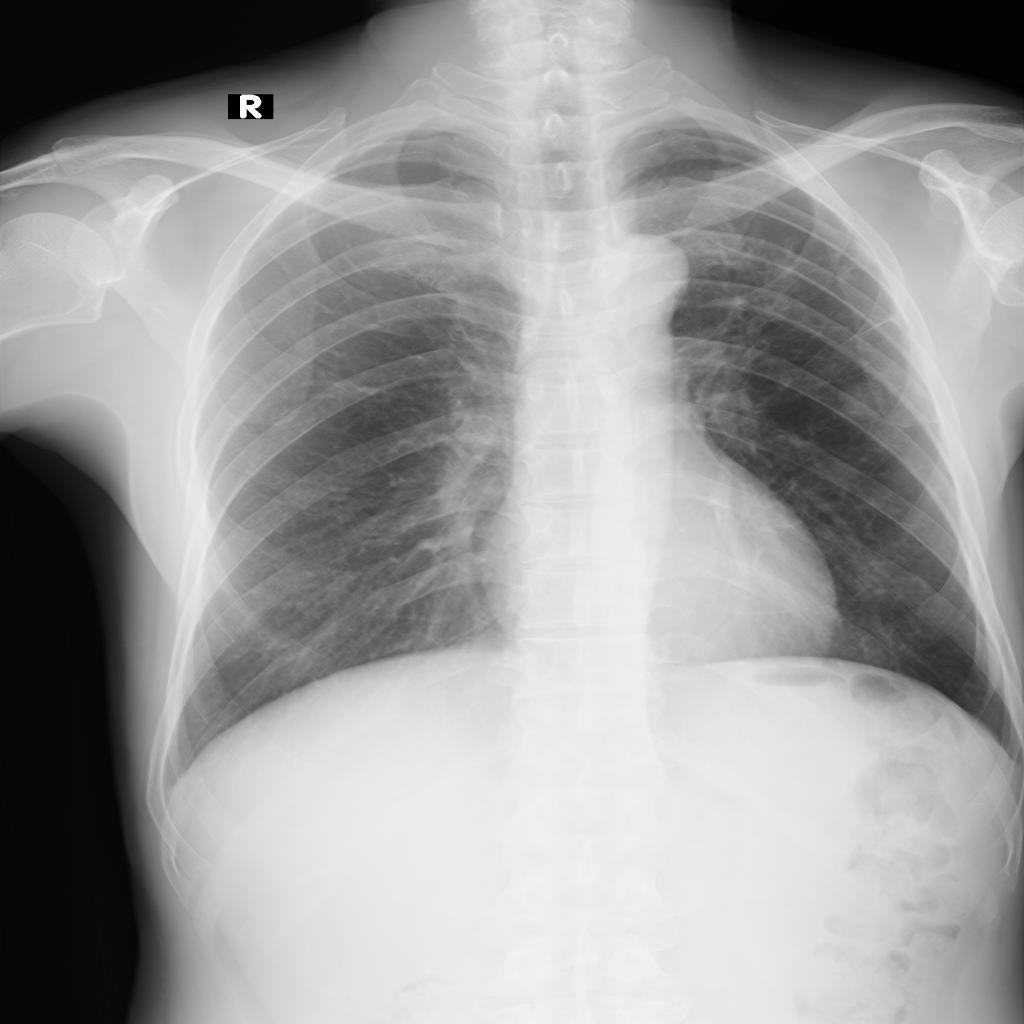Nodule: (842, 379, 884, 417)
